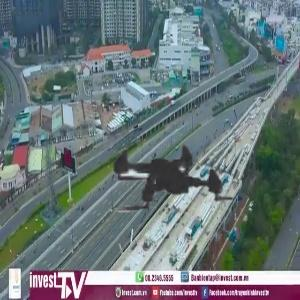drone: (58, 60, 275, 277)
